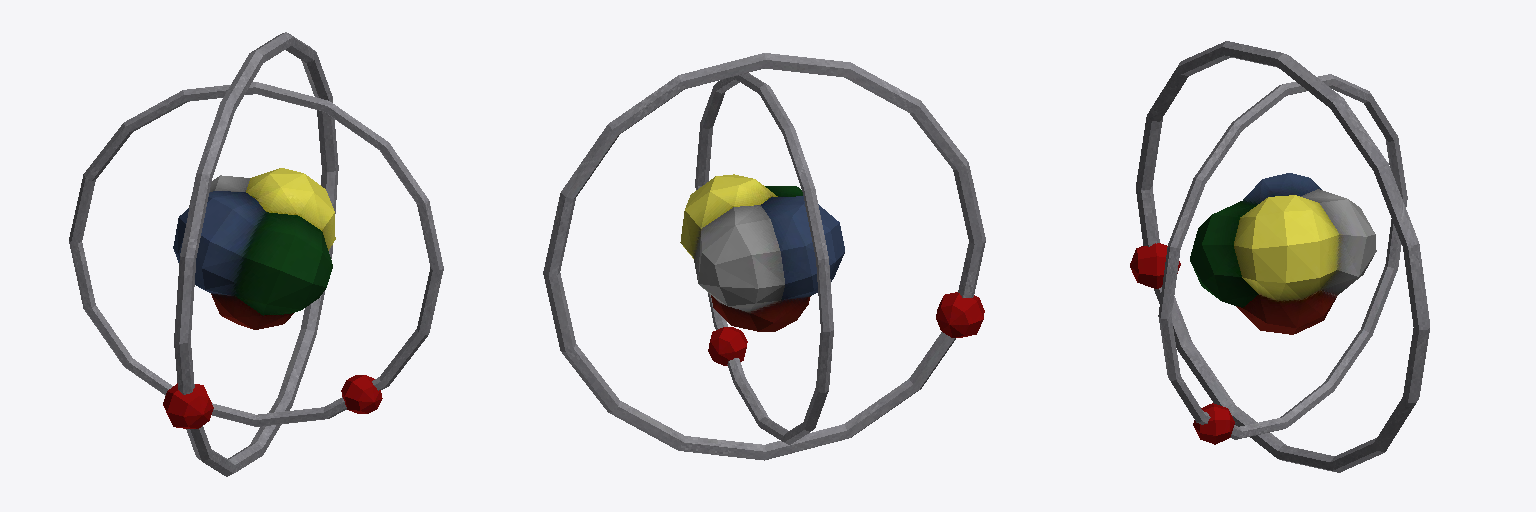
3 views of the same model, side by side, from view 1: azimuth 30°, elevation 25°; view 2: azimuth 150°, elevation 25°; view 3: azimuth 270°, elevation 25° (orthographic).
Visible parts, largest first — view 1: unwrapped2, Object09, Object10, Object12, Object11; view 2: Object09, unwrapped2, Object10, Object12, Object11; view 3: unwrapped2, Object09, Object10, Object12, Object11.
Part boxes in pixels (left/top/right/bottom): unwrapped2: left=173, top=168, right=335, bottom=329; Object09: left=174, top=32, right=338, bottom=476; Object10: left=69, top=82, right=443, bottom=426; Object12: left=163, top=383, right=213, bottom=428; Object11: left=341, top=375, right=382, bottom=413; Object09: left=543, top=53, right=985, bottom=460; unwrapped2: left=680, top=174, right=844, bottom=331; Object10: left=695, top=73, right=833, bottom=444; Object12: left=936, top=292, right=984, bottom=337; Object11: left=708, top=327, right=747, bottom=365; unwrapped2: left=1190, top=173, right=1376, bottom=334; Object09: left=1136, top=41, right=1429, bottom=472; Object10: left=1158, top=74, right=1407, bottom=439; Object12: left=1130, top=243, right=1180, bottom=288; Object11: left=1193, top=403, right=1234, bottom=444.
Bounding box in the file's own units: 27.61 × 35.32 × 23.63.
Materials: 1 (1 with a texture image).